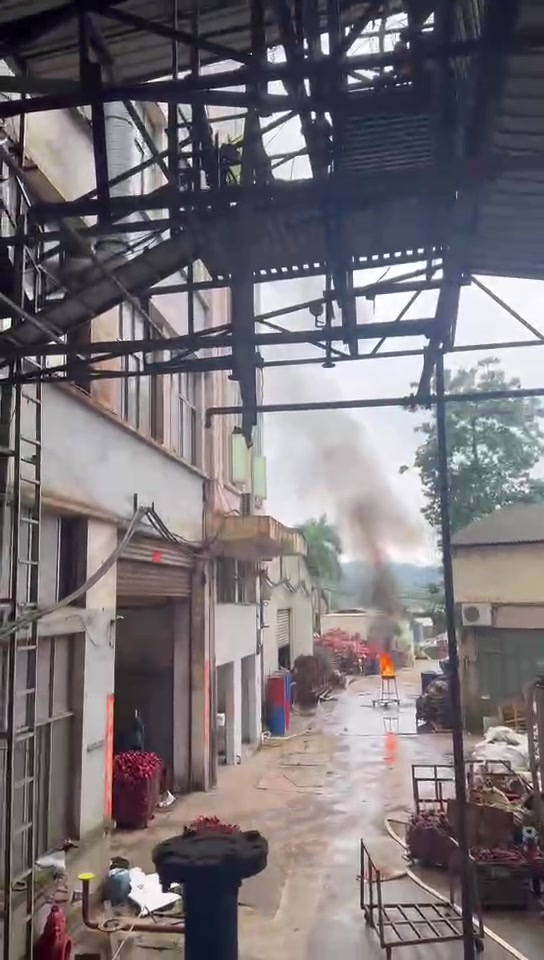fire: (381, 654, 395, 676)
